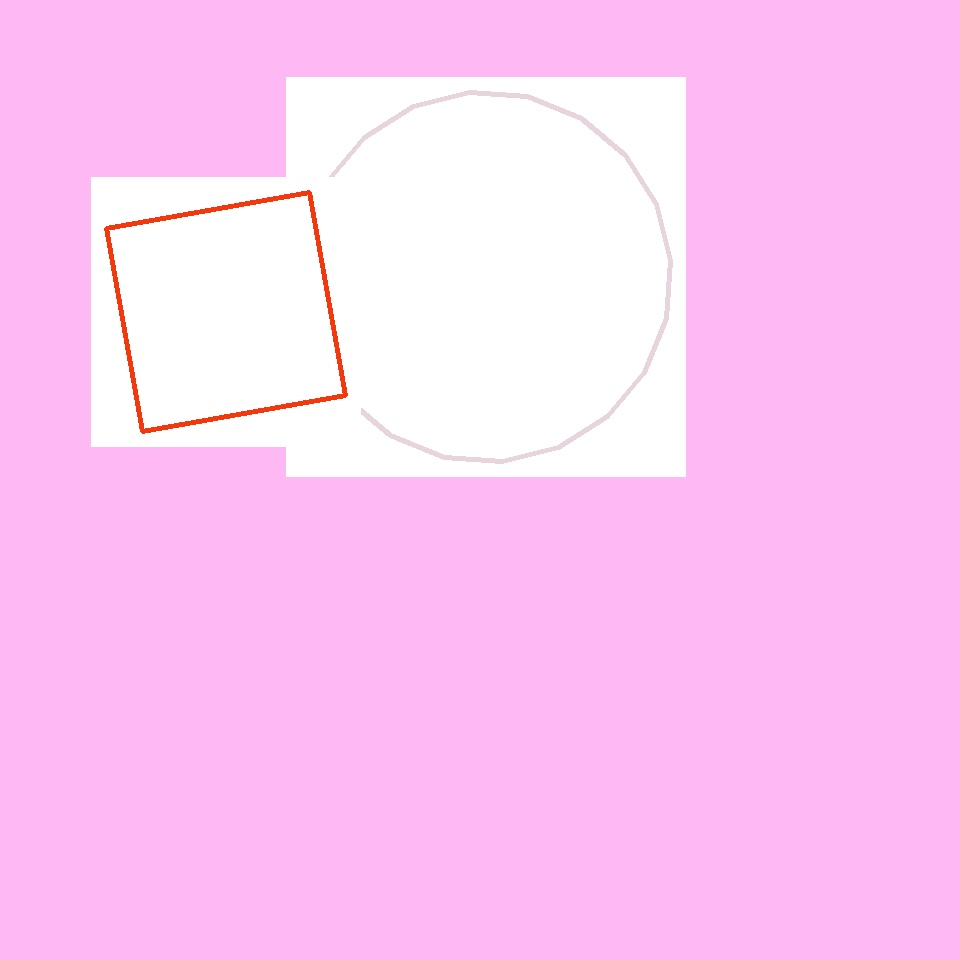circle: (350, 694, 586, 922), (390, 638, 514, 750), (581, 287, 701, 401), (22, 632, 126, 745)
square: (106, 192, 346, 432)
triangle: (301, 92, 670, 462)
